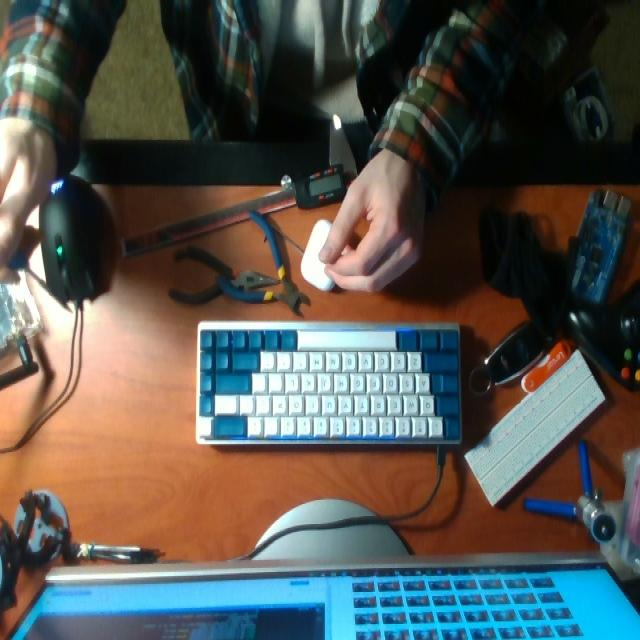keyboard: (196, 326, 461, 442)
